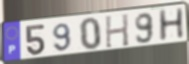0: (76, 17, 104, 52)
5: (24, 24, 47, 57)
9: (51, 22, 74, 53), (134, 12, 155, 44)
H: (157, 7, 186, 44), (104, 12, 130, 49)
